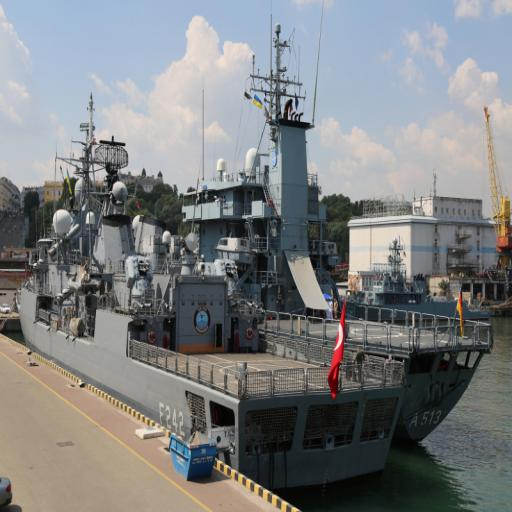Fragata: (2, 91, 409, 506)
